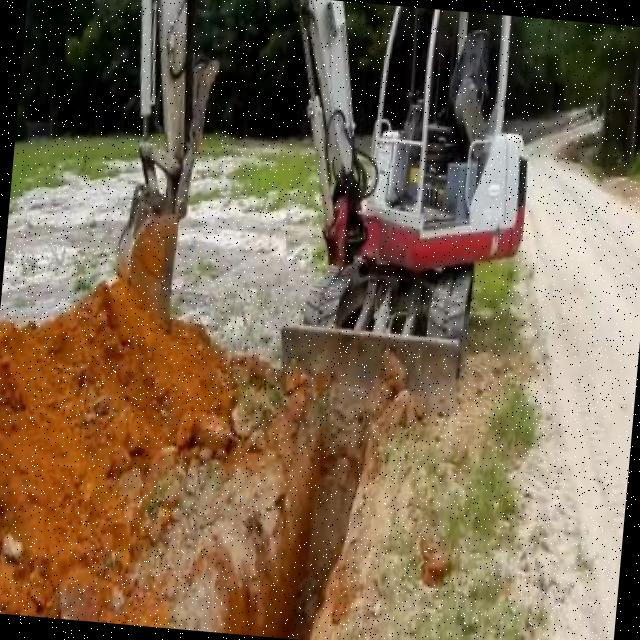Excavator: (98, 0, 543, 418)
